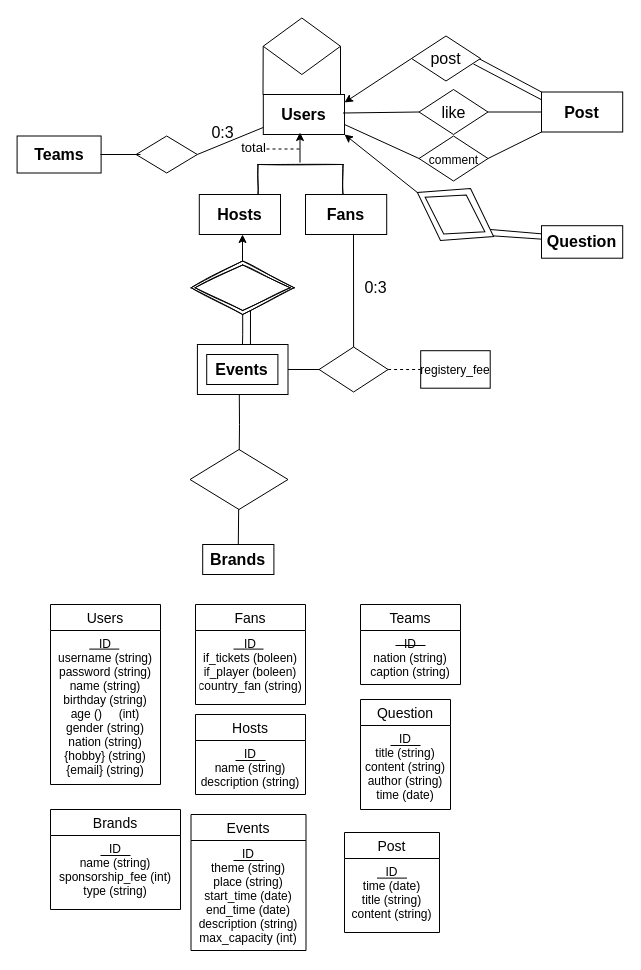
The diagram is 641 pixels wide and 970 high, and some of its shapes have lost their labels. The shapes that lost their labels are listed below. From the top down, each one's box as (x1, y1, x2, y2) in pixels, then its label:
(262, 17, 340, 74): follow
(135, 135, 197, 173): vote
(413, 177, 496, 251): raise
(190, 260, 294, 314): create
(318, 346, 388, 392): join
(189, 448, 288, 510): sponsor
